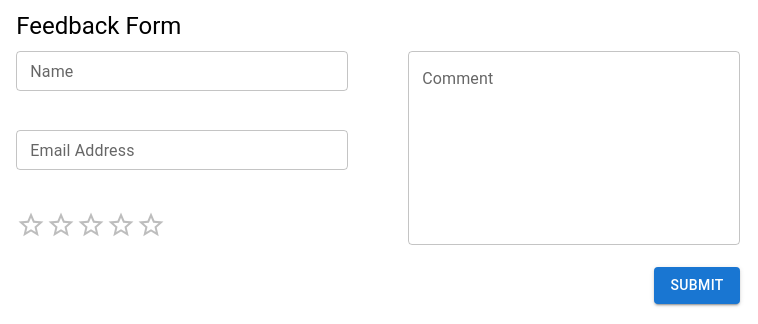
it: FeedbackForm › fields › email address › introducing an invalid email will result in validation error
Type "john" into the field labelled "Email Address" at (182, 150), box [16,130,348,170]
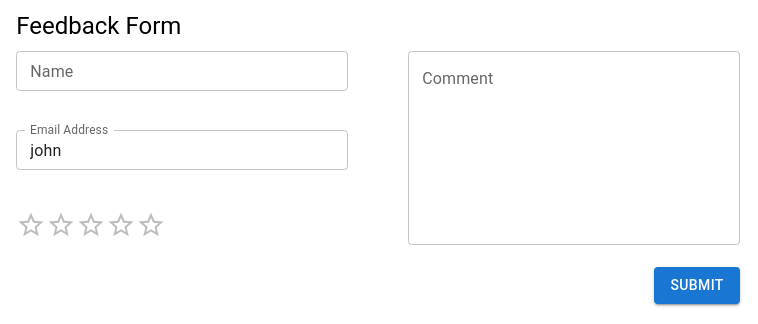
Leave the field labelled "Email Address", box [16,130,348,170]
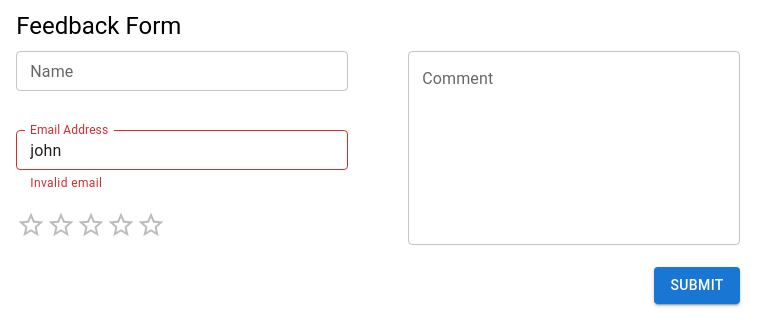
Now the text "Invalid email" is shown, box [30,176,102,190]
